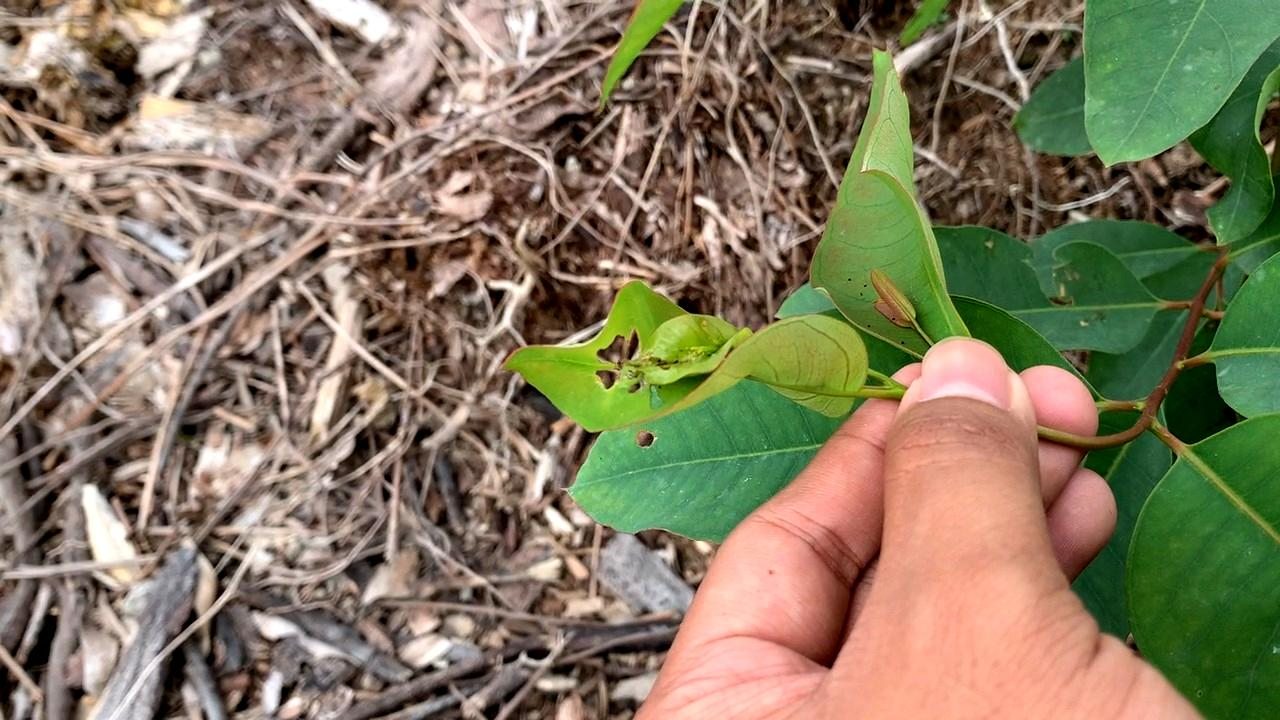Leaf Roller - Leaf: (513, 283, 876, 443)
